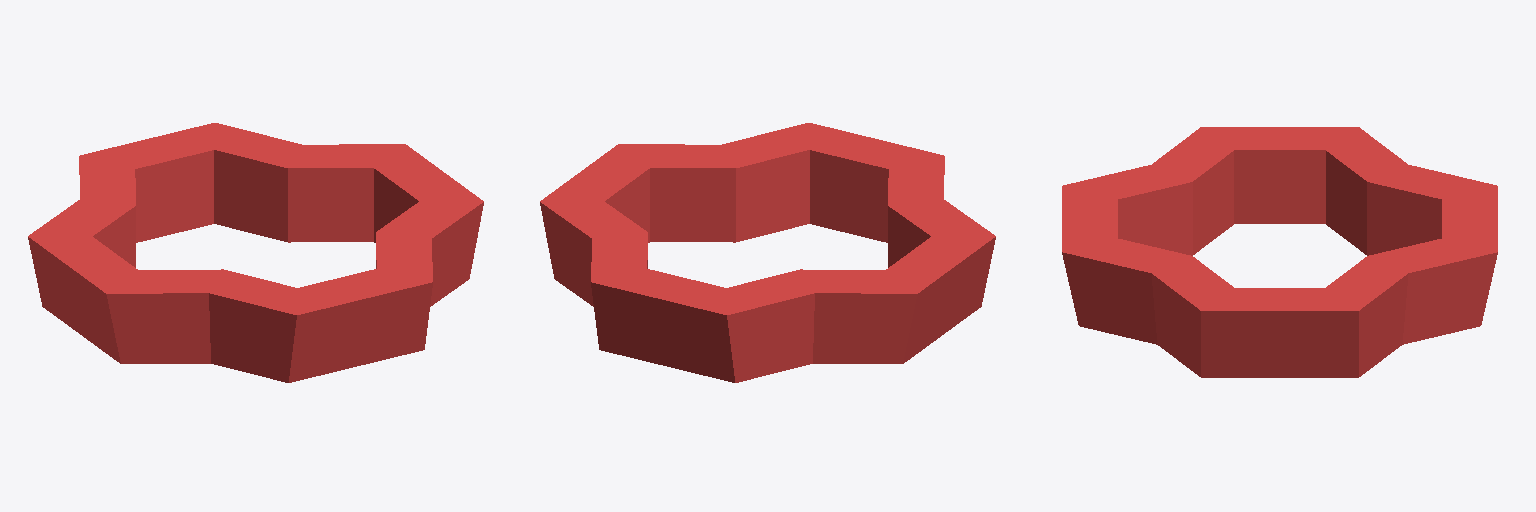
File: paprikaSlice.obj
3 renders of one model, left to right at view 1: azimuth 30°, elevation 25°; view 2: azimuth 150°, elevation 25°; view 3: azimuth 270°, elevation 25°, orthographic.
Visible parts, largest first — view 1: paprikaSlice; view 2: paprikaSlice; view 3: paprikaSlice.
Boxes of the visible parts, x1,y1,x2,y2 form: paprikaSlice: [28, 123, 483, 382]; paprikaSlice: [540, 123, 995, 382]; paprikaSlice: [1062, 127, 1497, 377].
Bounding box in the file's own units: 0.1602 × 0.03 × 0.1602.